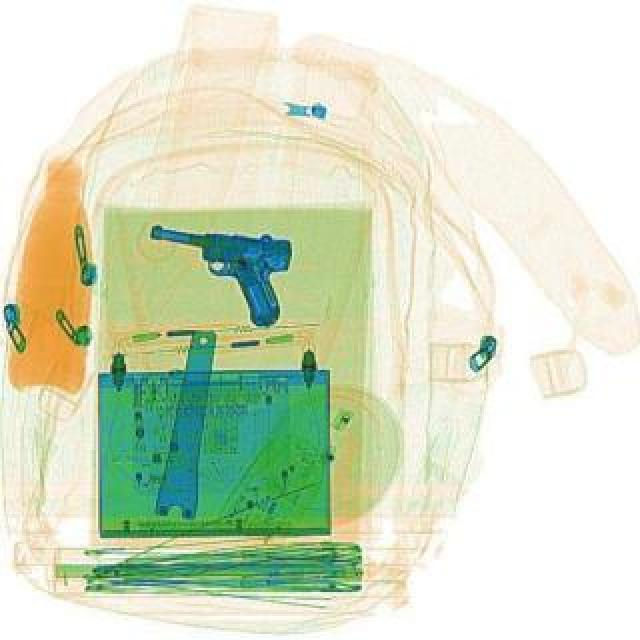gun: (136, 214, 296, 326)
